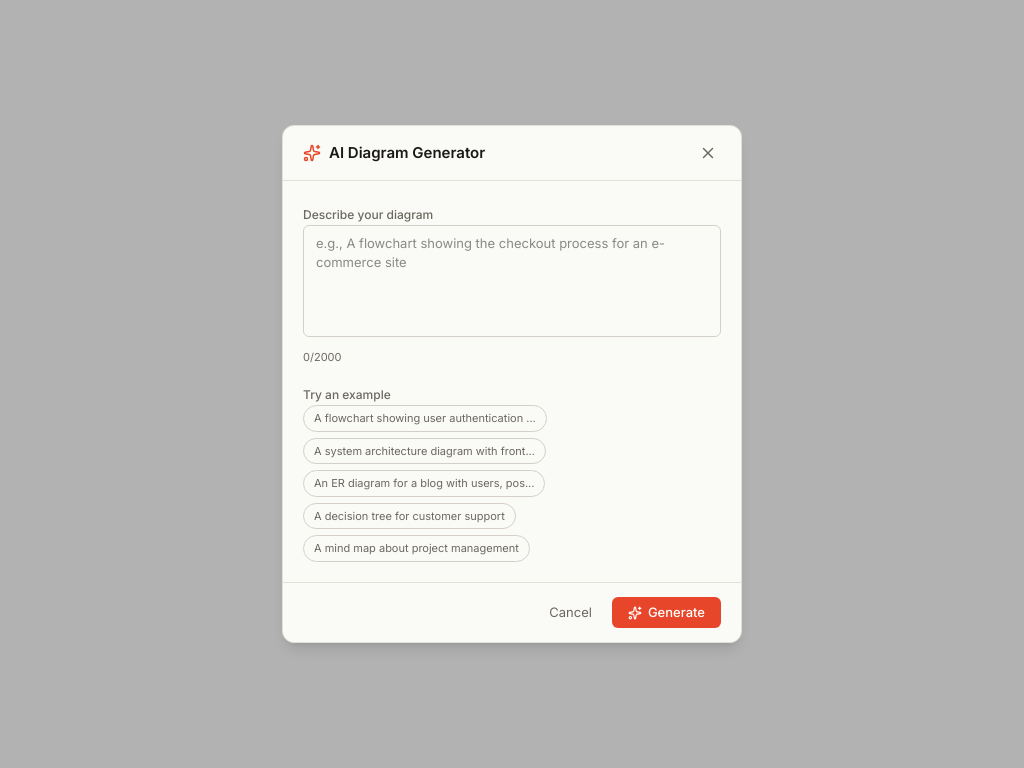
Test: AIGenerateModal releases the busy flag on failure › shows the generic failure for a rejection that is not an Error
Replace the text in the text box labelled "Describe your diagram" with "A simple architecture diagram" at (512, 281), box [303,225,721,337]
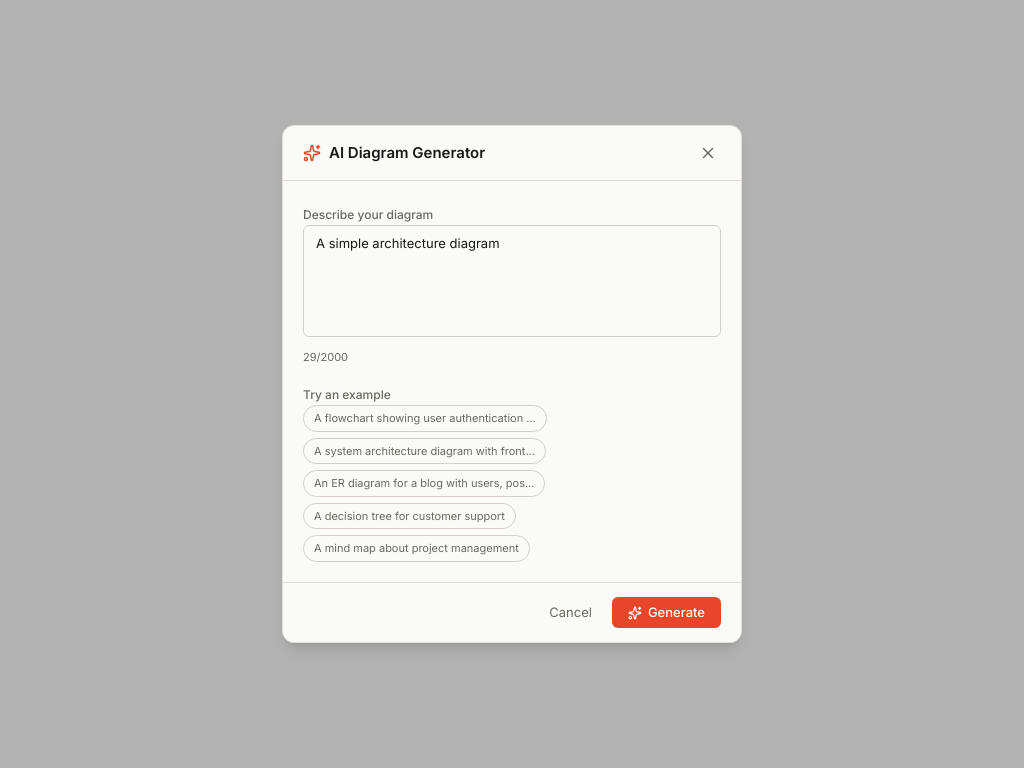
Click the button "Generate" at (666, 613), box [612,597,721,628]
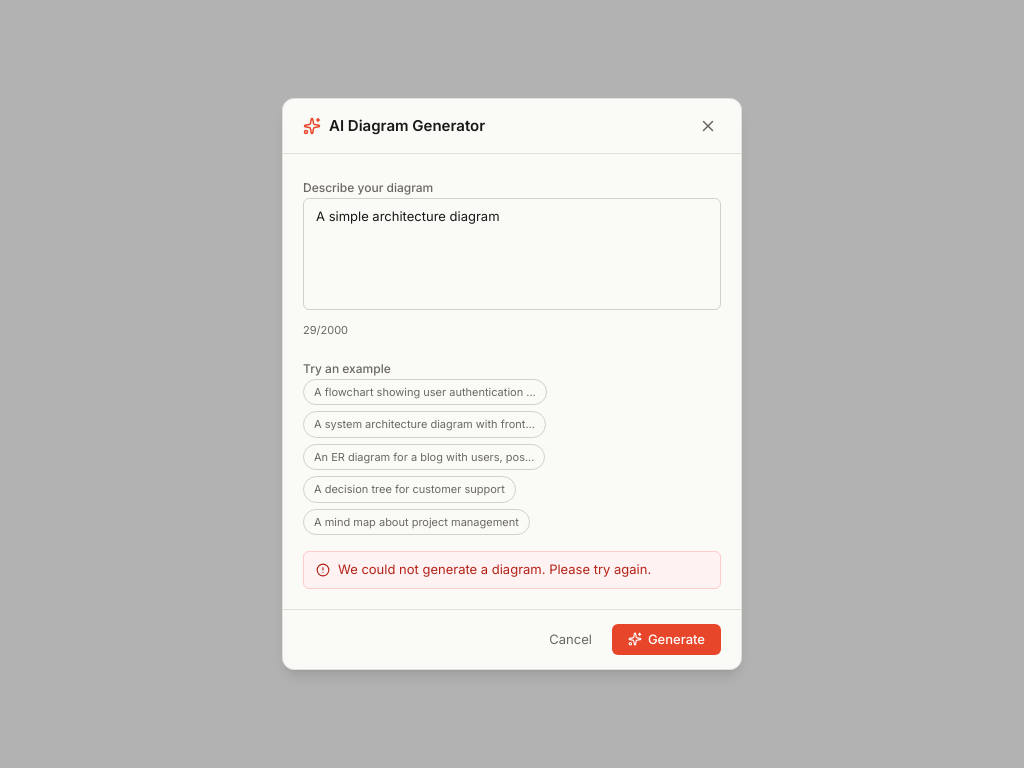
Check: the message does not show "undefined", box [303,551,721,588]
Check: the message shows "could not generate", box [338,561,651,577]
